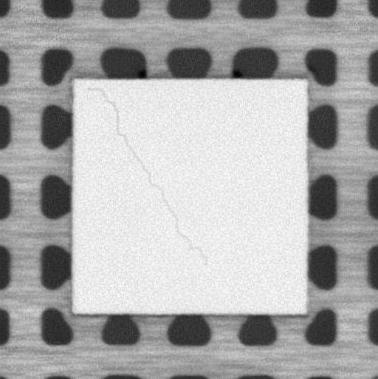DIE_CRACK: (90, 85, 208, 266)
